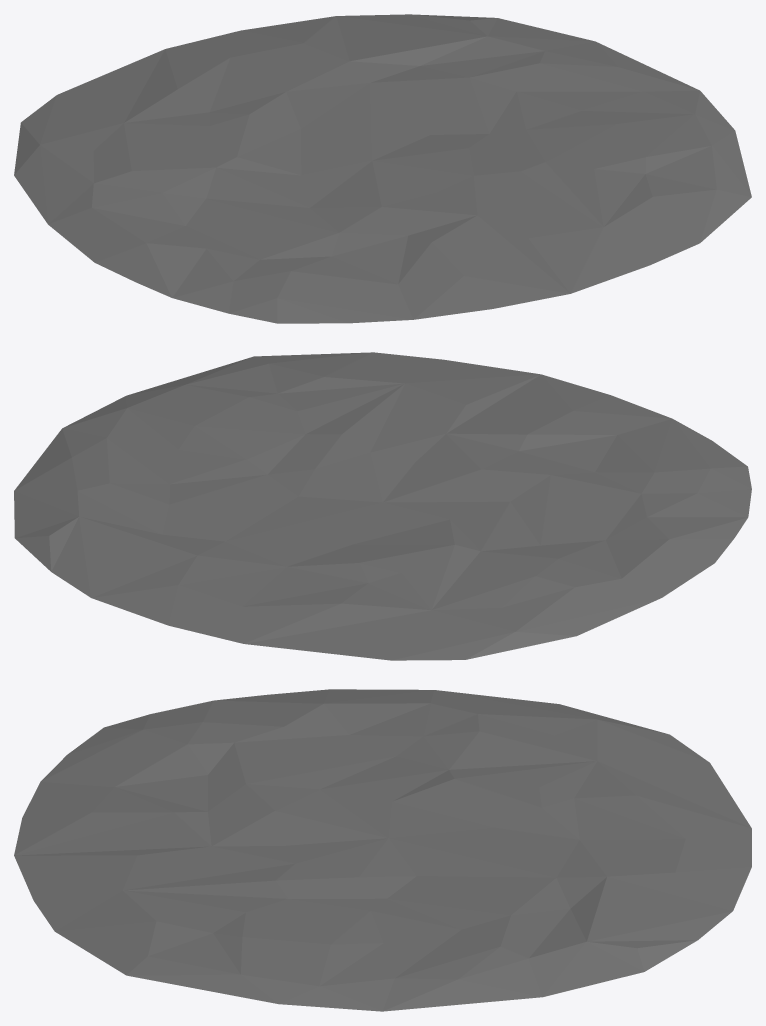
Rendered from SM_Gen_Env_Ground_Dirt_01.glb.
3 views of the same model, one above another, from view 1: azimuth 30°, elevation 25°; view 2: azimuth 150°, elevation 25°; view 3: azimuth 270°, elevation 25° (orthographic). The views are drawn at different scales.
Visible parts, largest first — view 1: SM_Gen_Env_Ground_Dirt_01; view 2: SM_Gen_Env_Ground_Dirt_01; view 3: SM_Gen_Env_Ground_Dirt_01.
Boxes of the visible parts, box(x1,y1,x2,y2) form: SM_Gen_Env_Ground_Dirt_01: box(14, 14, 751, 323); SM_Gen_Env_Ground_Dirt_01: box(14, 352, 751, 660); SM_Gen_Env_Ground_Dirt_01: box(14, 689, 751, 1011).
Bounding box in the file's own units: 4.51 × 0.0884 × 4.37.
Materials: 1 (1 with a texture image).
